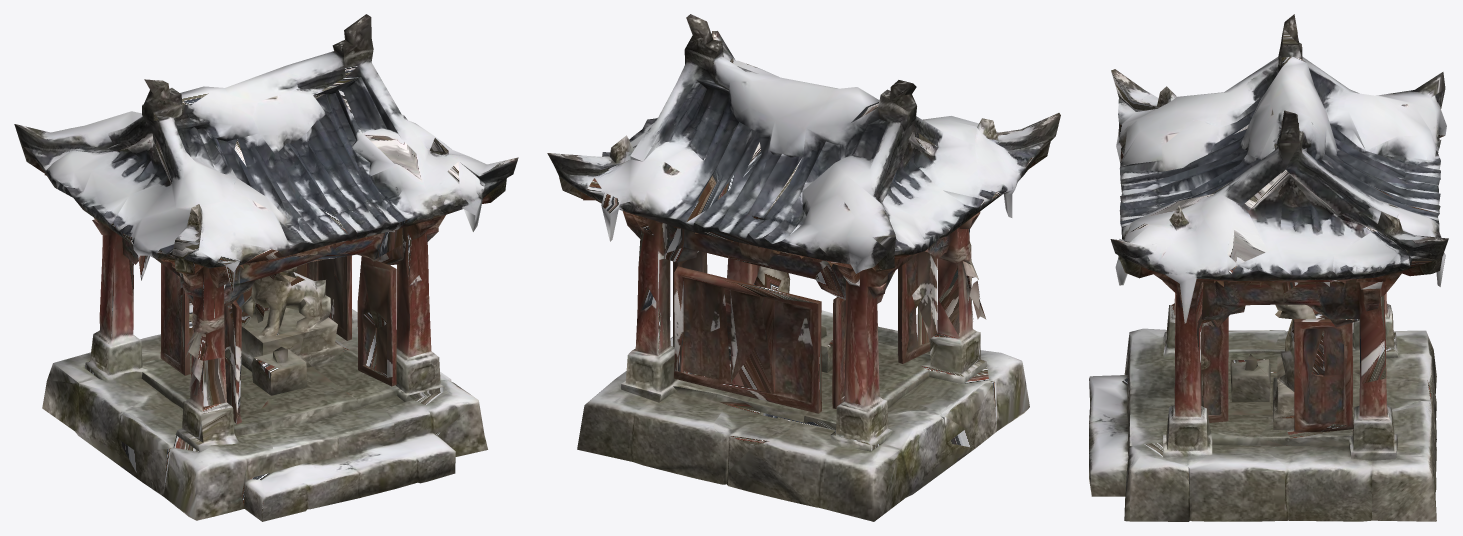
The model's file is prop_snow_shrine.c70e2328.glb.
3 renders of one model, left to right at view 1: azimuth 30°, elevation 25°; view 2: azimuth 150°, elevation 25°; view 3: azimuth 270°, elevation 25°, orthographic.
Visible parts, largest first — view 1: tripo_node_5510fb03-d6fa-4341-9cf2-0b8a87836460; view 2: tripo_node_5510fb03-d6fa-4341-9cf2-0b8a87836460; view 3: tripo_node_5510fb03-d6fa-4341-9cf2-0b8a87836460.
Boxes of the visible parts, x1,y1,x2,y2 form: tripo_node_5510fb03-d6fa-4341-9cf2-0b8a87836460: (14, 14, 518, 521); tripo_node_5510fb03-d6fa-4341-9cf2-0b8a87836460: (547, 14, 1060, 521); tripo_node_5510fb03-d6fa-4341-9cf2-0b8a87836460: (1089, 14, 1448, 521).
Size of the model in its own units: 3.28 by 3.5 by 2.93.
Materials: 1 (1 with a texture image).
